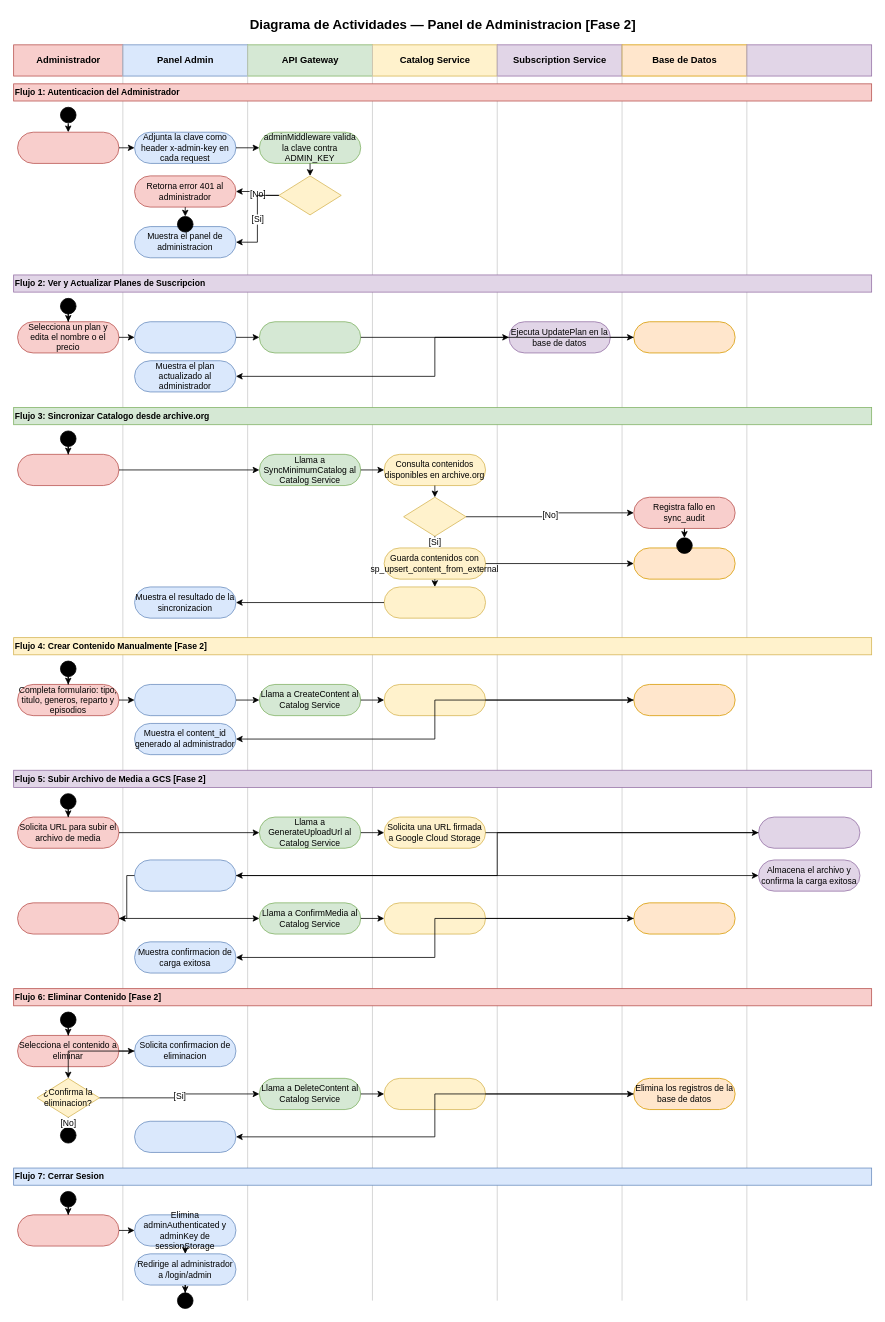
Some shapes in this 885 by 1322 pixel diagram are drawn without their labels. Here are the shapes that lost their labels. From the top down, the box of each, then its label:
(746, 44, 872, 76): GCS [Fase 2]
(17, 131, 119, 163): Ingresa la clave de administrador
(278, 175, 341, 215): ¿Clave valida?
(134, 321, 236, 353): Envia los datos del plan al servidor
(259, 321, 361, 353): Valida planId, nombre y precio_usd
(633, 321, 735, 353): Actualiza el registro en la tabla plans
(17, 454, 119, 486): Solicita sincronizar catalogo (force: true o false)
(403, 496, 466, 536): ¿Hay contenido disponible?
(633, 547, 735, 579): Trigger actualiza updated_at automaticamente
(383, 586, 486, 618): Registra resultado en sync_audit
(134, 684, 236, 716): Envia los datos del contenido al servidor
(383, 684, 486, 716): Persiste el contenido con sp_upsert_content
(633, 684, 735, 716): Trigger trg_catalog_updated_at actualiza timestamp
(758, 816, 860, 848): Genera y retorna URL firmada con tiempo de expiracion
(134, 859, 236, 891): Sube el archivo directamente a GCS usando la URL firmada
(17, 902, 119, 934): Confirma la carga al sistema
(383, 902, 486, 934): Actualiza el estado del media y registra la URL en el catalogo
(633, 902, 735, 934): Registra la URL GCS en la tabla de contenido
(383, 1078, 486, 1110): Elimina el contenido y sus recursos asociados
(134, 1120, 236, 1152): Muestra confirmacion de eliminacion exitosa
(17, 1214, 119, 1246): Hace clic en cerrar sesion
